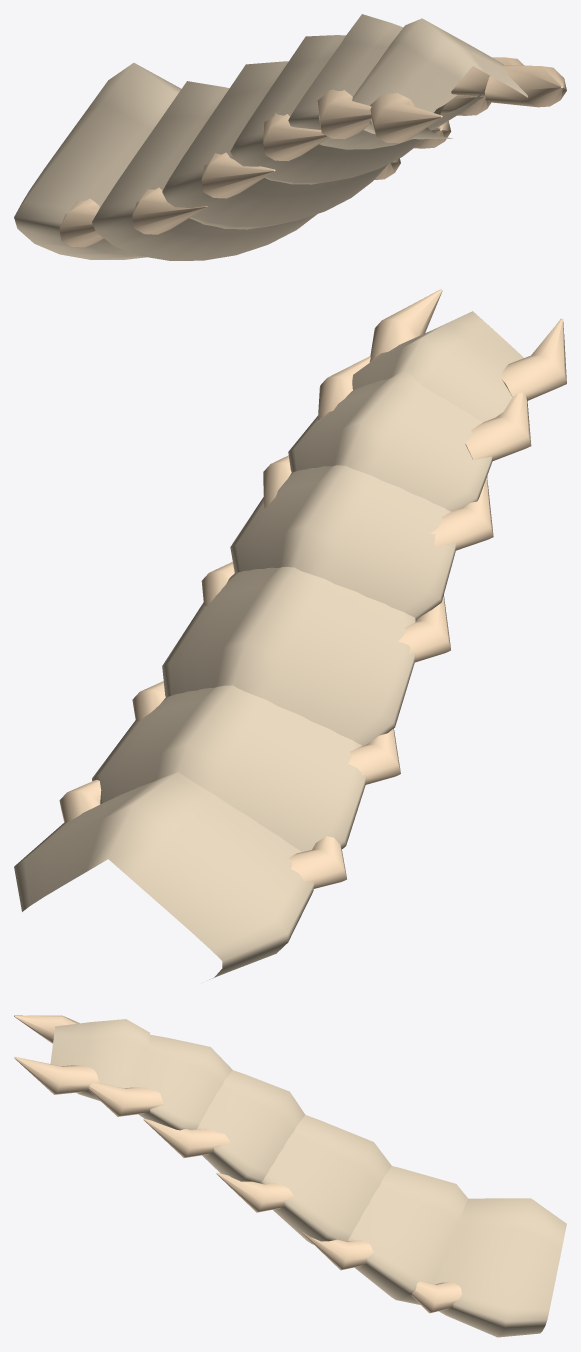
File: catapult_tail.glb
3 renders of one model, top to bottom at view 1: azimuth 30°, elevation 25°; view 2: azimuth 150°, elevation 25°; view 3: azimuth 270°, elevation 25°, orthographic. The views are drawn at different scales.
Visible parts, largest first — view 1: catapult_tail; view 2: catapult_tail; view 3: catapult_tail.
Part boxes in pixels (bbox=[...]): catapult_tail: bbox=[14, 14, 566, 260]; catapult_tail: bbox=[14, 289, 566, 979]; catapult_tail: bbox=[14, 1015, 566, 1337].
Bounding box in the file's own units: 0.5264 × 0.7563 × 1.26.
